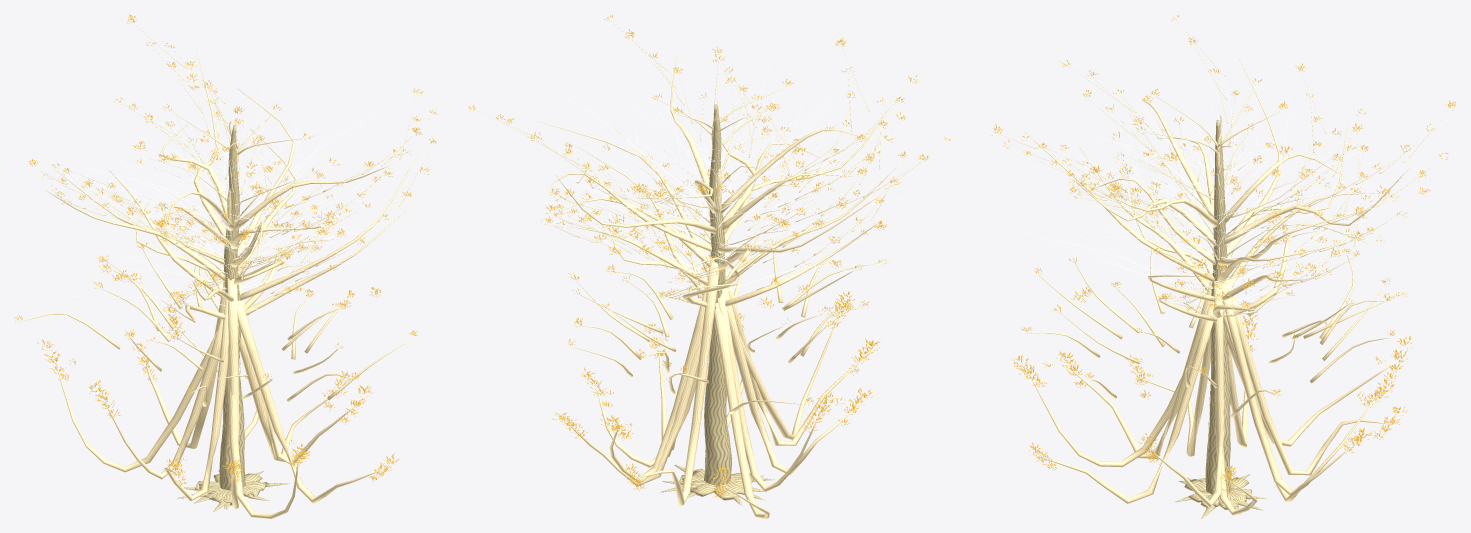
Rendered from world_tree.glb.
3 renders of one model, left to right at view 1: azimuth 30°, elevation 25°; view 2: azimuth 150°, elevation 25°; view 3: azimuth 270°, elevation 25°, orthographic. The views are drawn at different scales.
Visible parts, largest first — view 1: WorldTree_Branches, WorldTree_Leaves, WorldTree_LuminousVeins, WorldTree_Bark; view 2: WorldTree_Branches, WorldTree_Leaves, WorldTree_LuminousVeins, WorldTree_Bark; view 3: WorldTree_Branches, WorldTree_Leaves, WorldTree_LuminousVeins, WorldTree_Bark.
Boxes of the visible parts, bbox=[...] form: WorldTree_Branches: bbox=[19, 23, 433, 518]; WorldTree_Leaves: bbox=[14, 14, 437, 486]; WorldTree_LuminousVeins: bbox=[39, 67, 422, 309]; WorldTree_Bark: bbox=[177, 125, 290, 511]; WorldTree_Branches: bbox=[476, 20, 943, 518]; WorldTree_Leaves: bbox=[468, 14, 950, 498]; WorldTree_LuminousVeins: bbox=[490, 23, 955, 293]; WorldTree_Bark: bbox=[660, 104, 774, 505]; WorldTree_Branches: bbox=[1000, 21, 1450, 515]; WorldTree_Leaves: bbox=[990, 15, 1456, 492]; WorldTree_LuminousVeins: bbox=[998, 42, 1429, 315]; WorldTree_Bark: bbox=[1175, 120, 1266, 518].
Size of the model in its own units: 278 by 254 by 261.
4 materials, 3 textured.
